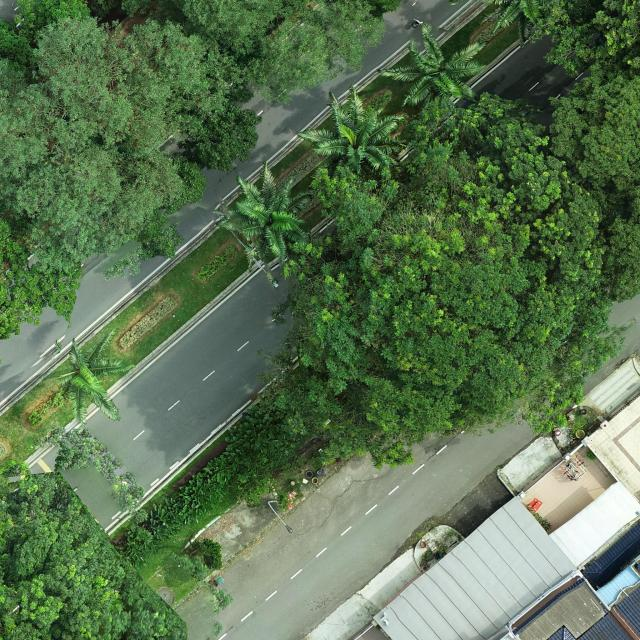Tree: (262, 90, 610, 472), (0, 10, 235, 267), (0, 468, 187, 640), (175, 0, 386, 108), (546, 58, 640, 188), (213, 159, 319, 273), (0, 218, 88, 342), (295, 84, 409, 172), (378, 22, 490, 108), (525, 0, 639, 78), (54, 325, 138, 426)
